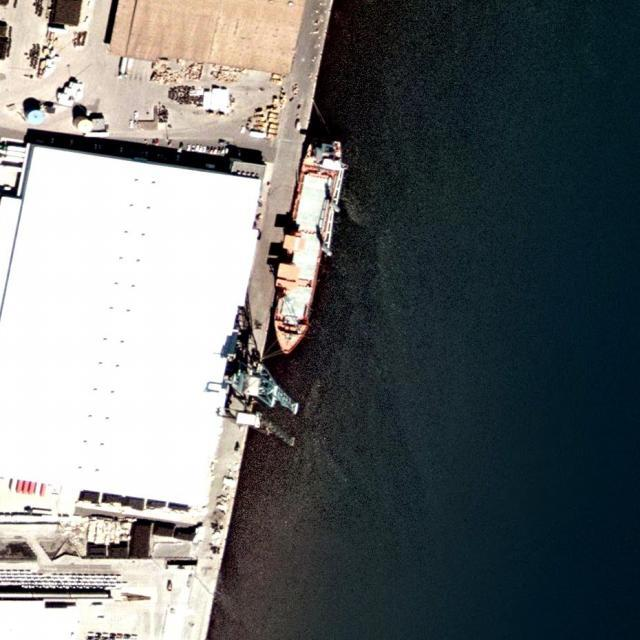Container Ship: (262, 134, 346, 359)
